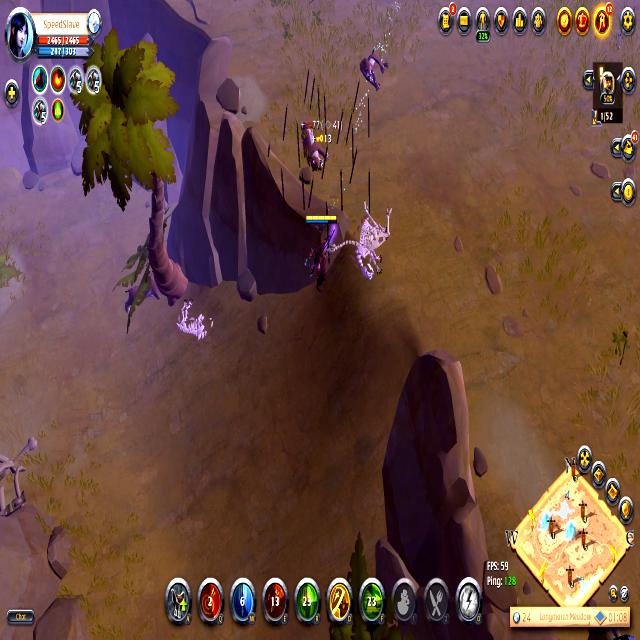mob: (295, 115, 330, 175), (357, 37, 389, 90)
red: (303, 211, 339, 289)
